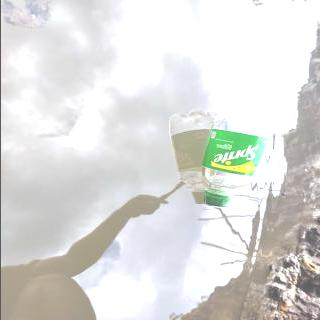bottle: (196, 104, 279, 210)
